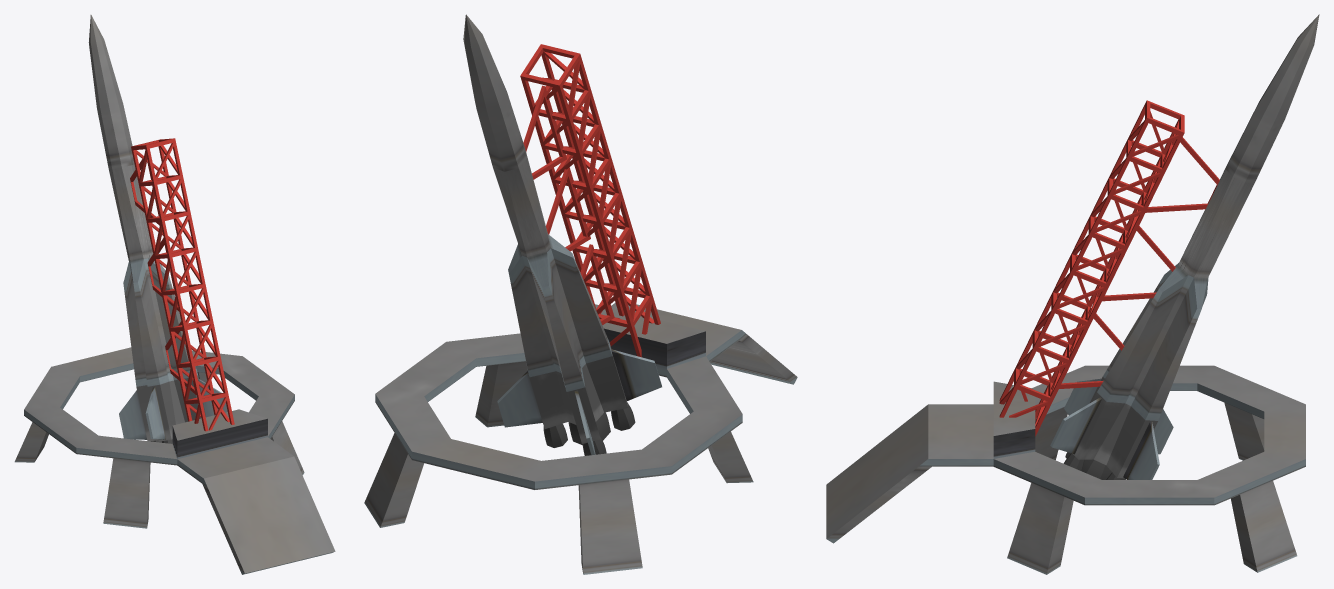
File: LaunchPad_UV.fbx
The picture shows the model from 3 angles, left to right: view 1: azimuth 30°, elevation 25°; view 2: azimuth 150°, elevation 25°; view 3: azimuth 270°, elevation 25°; orthographic projection. The views are drawn at different scales.
Parts seen in each view (by area): view 1: Tec_Level, Rocket (2), Truss (2), Guide (2); view 2: Tec_Level, Rocket (2), Truss (2), Guide (2); view 3: Tec_Level, Rocket (2), Truss (2), Guide (2).
Part boxes in pixels (<box>): Tec_Level: <box>14,347,335,574</box>; Rocket (2): <box>88,15,227,441</box>; Truss (2): <box>131,138,234,431</box>; Guide (2): <box>130,159,196,394</box>; Tec_Level: <box>364,303,797,574</box>; Rocket (2): <box>463,14,661,455</box>; Truss (2): <box>520,44,660,357</box>; Guide (2): <box>523,85,614,324</box>; Tec_Level: <box>826,365,1305,574</box>; Rocket (2): <box>1050,14,1319,479</box>; Truss (2): <box>999,100,1184,436</box>; Guide (2): <box>1051,134,1219,389</box>.
Bounding box in the file's own units: 188 × 335 × 298.
